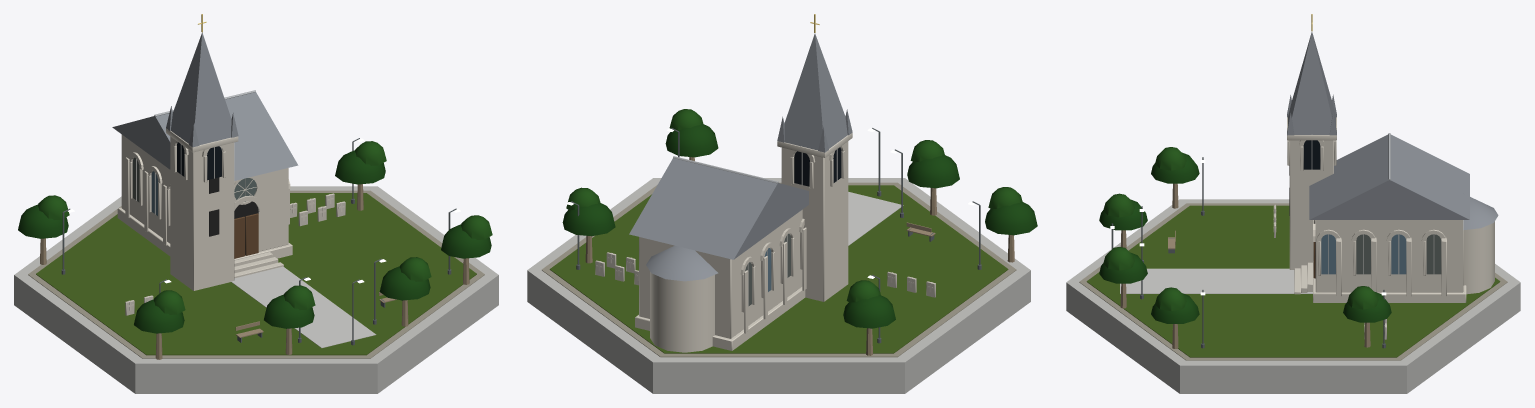
The model's file is worship_church.glb.
The picture shows the model from 3 angles, left to right: view 1: azimuth 30°, elevation 25°; view 2: azimuth 150°, elevation 25°; view 3: azimuth 270°, elevation 25°; orthographic projection. The views are drawn at different scales.
Visible parts, largest first — view 1: turf, wall_concrete, stone, leaf, roof_slate, pavers, wood, glass, steel_dark, dark; view 2: turf, wall_concrete, stone, roof_slate, leaf, pavers, glass, wood, steel_dark; view 3: turf, wall_concrete, stone, roof_slate, pavers, leaf, glass, wood, steel_dark.
Boxes of the visible parts, <box> form: turf: <box>36,193,476,355</box>; wall_concrete: <box>14,144,498,393</box>; stone: <box>117,128,345,315</box>; leaf: <box>18,141,492,333</box>; roof_slate: <box>112,32,298,180</box>; pavers: <box>28,190,484,358</box>; wood: <box>40,184,469,359</box>; glass: <box>132,142,256,215</box>; steel_dark: <box>61,138,456,345</box>; dark: <box>209,177,258,255</box>; turf: <box>549,185,1008,353</box>; wall_concrete: <box>527,149,1030,393</box>; stone: <box>595,133,935,352</box>; roof_slate: <box>629,33,852,281</box>; leaf: <box>562,109,1037,328</box>; pavers: <box>541,182,1016,357</box>; glass: <box>745,147,841,305</box>; wood: <box>585,157,1014,355</box>; steel_dark: <box>571,128,981,343</box>; turf: <box>1086,205,1500,357</box>; wall_concrete: <box>1066,140,1520,393</box>; stone: <box>1273,117,1494,339</box>; roof_slate: <box>1287,32,1498,230</box>; pavers: <box>1079,203,1507,360</box>; leaf: <box>1099,147,1391,323</box>; glass: <box>1303,140,1441,274</box>; wood: <box>1120,183,1370,348</box>; steel_dark: <box>1111,157,1385,348</box>.
Size of the model in its own units: 21.31 by 16.5 by 24.6.
